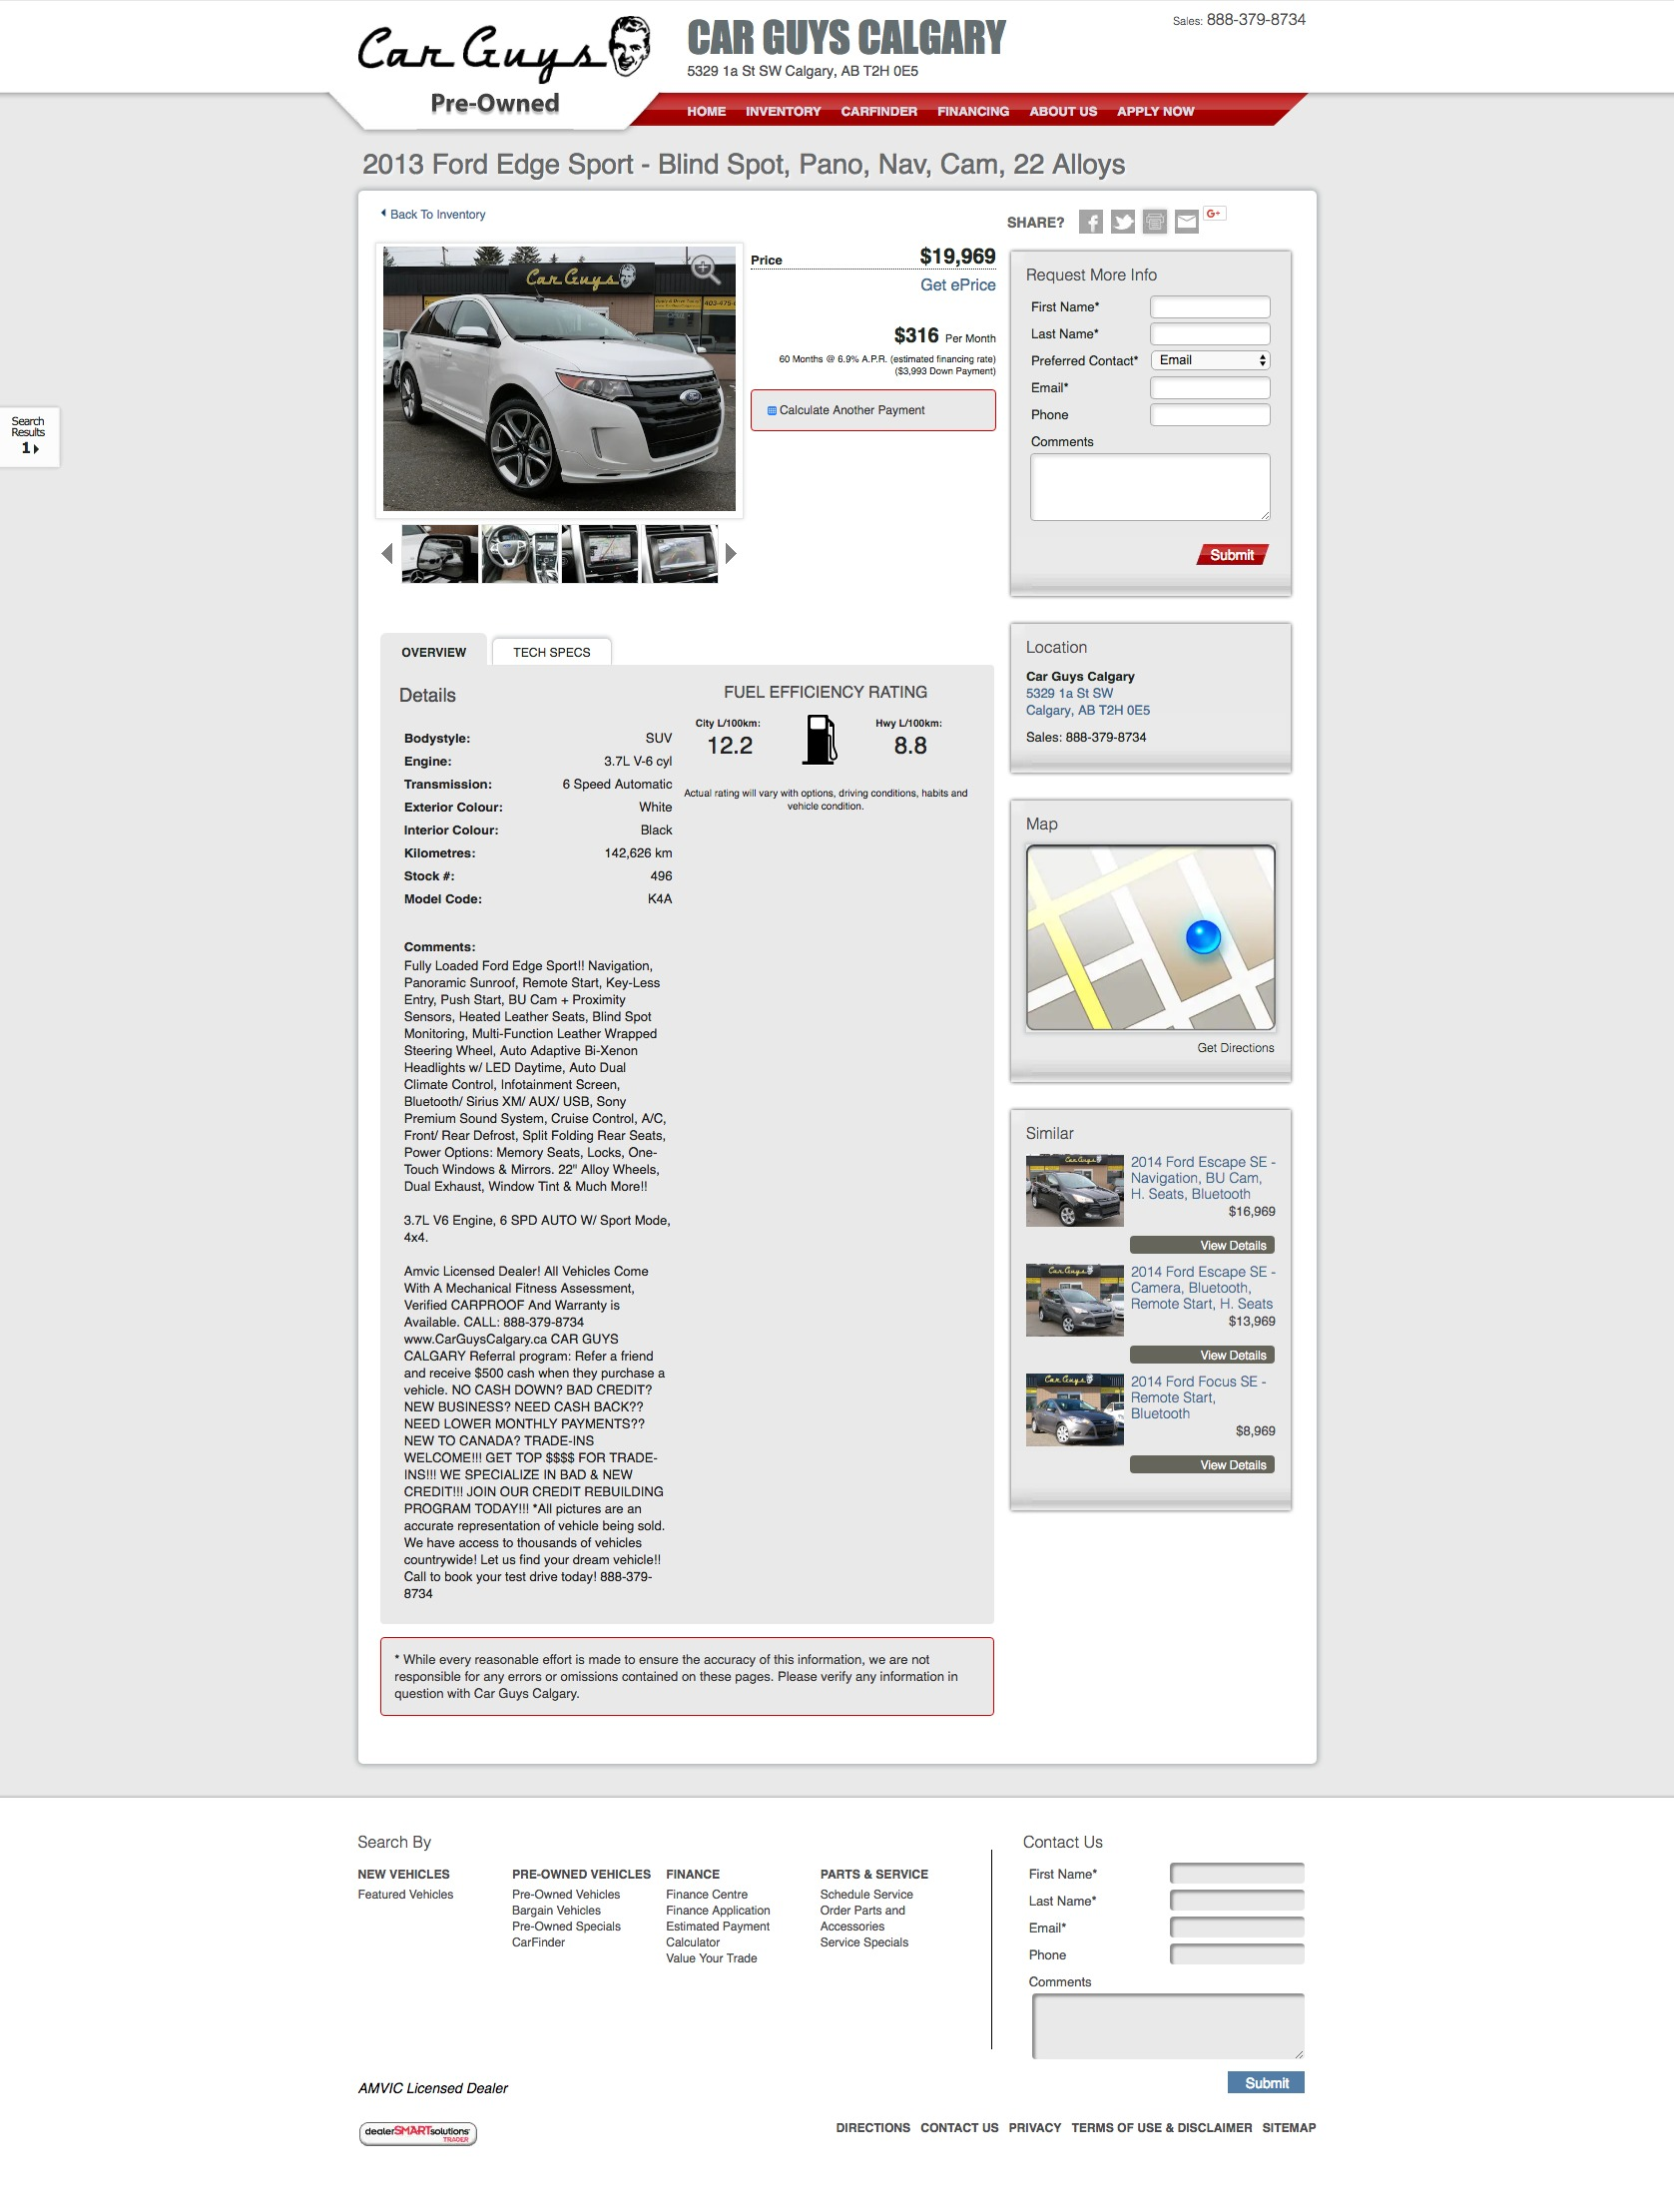car: (724, 542, 739, 566)
